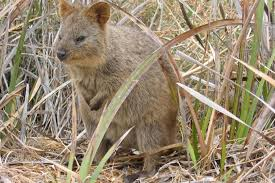quokka: (50, 2, 190, 174)
